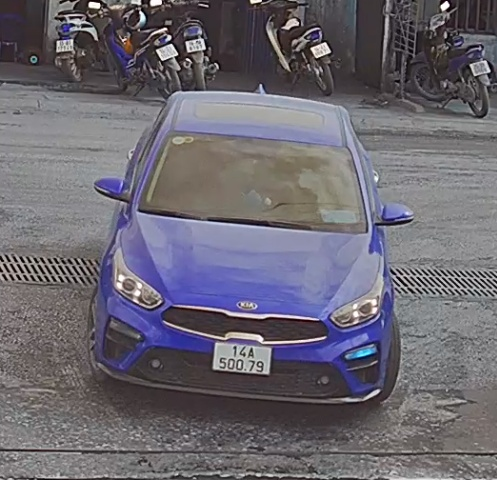vehicle plate: (209, 333, 282, 375)
